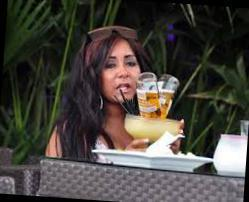Drunk: (103, 43, 139, 100)
